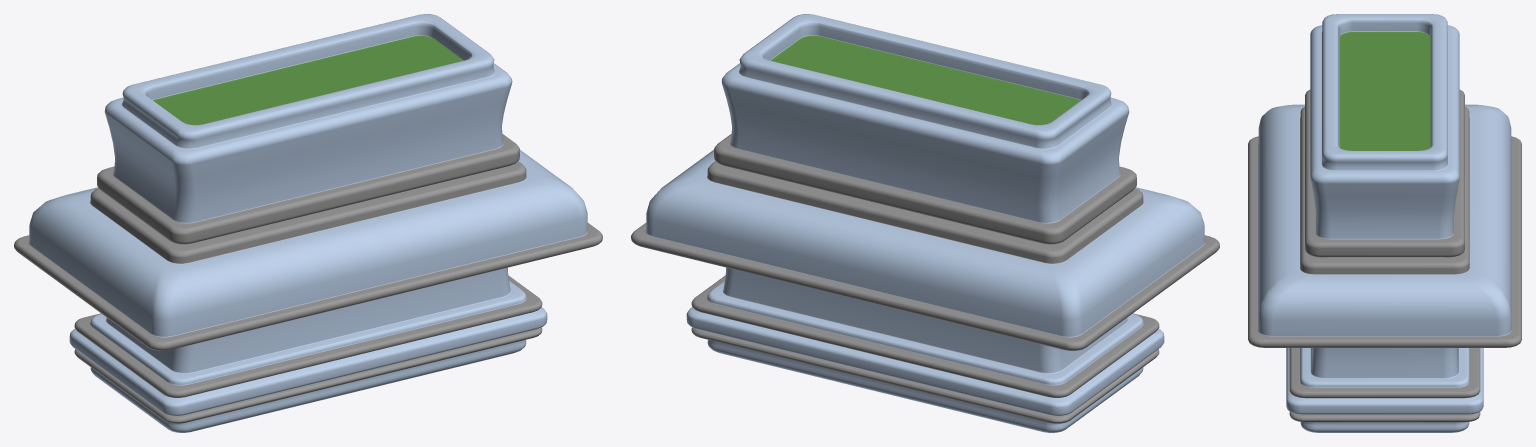
Rendered from SM_Building_05_Part_07.fbx.
3 renders of one model, left to right at view 1: azimuth 30°, elevation 25°; view 2: azimuth 150°, elevation 25°; view 3: azimuth 270°, elevation 25°, orthographic. The views are drawn at different scales.
Visible parts, largest first — view 1: SM_Building_05_Part_07; view 2: SM_Building_05_Part_07; view 3: SM_Building_05_Part_07.
Boxes of the visible parts, left/top/right/bottom form: SM_Building_05_Part_07: left=14, top=14, right=602, bottom=432; SM_Building_05_Part_07: left=631, top=14, right=1219, bottom=432; SM_Building_05_Part_07: left=1248, top=14, right=1521, bottom=432.
Size of the model in its own units: 4937 by 3011 by 2768.
